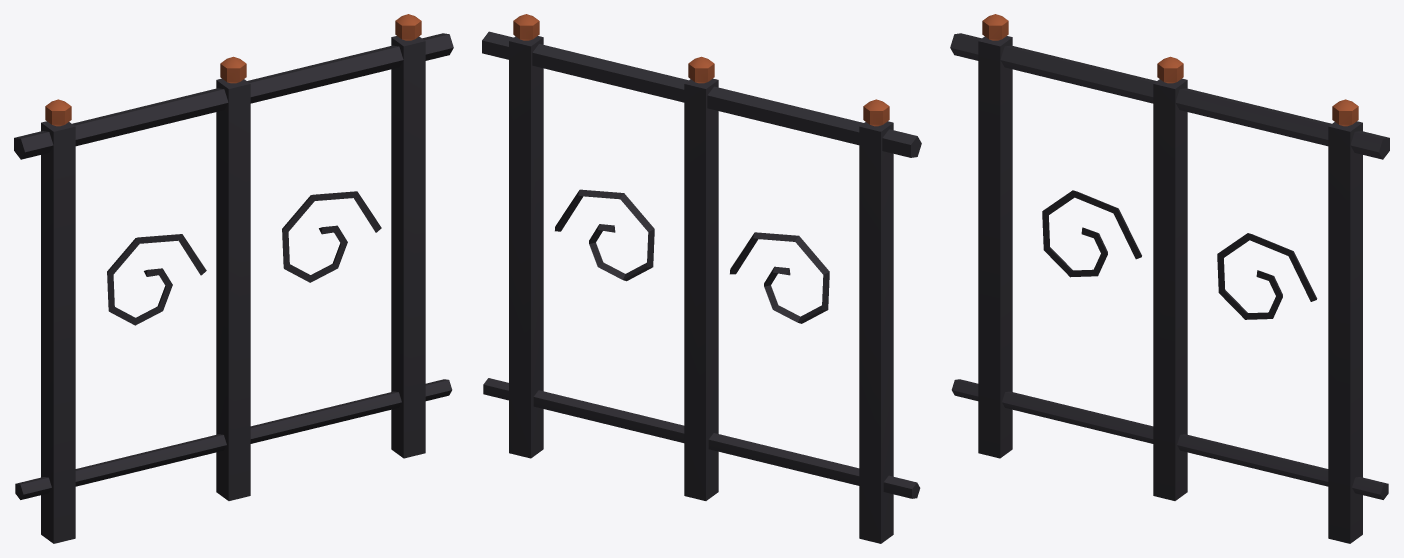
Rendered from qb_stairwell_rail_metal.glb.
3 renders of one model, left to right at view 1: azimuth 30°, elevation 25°; view 2: azimuth 150°, elevation 25°; view 3: azimuth 330°, elevation 25°, orthographic.
Visible parts, largest first — view 1: qb_stairwell_rail_metal; view 2: qb_stairwell_rail_metal; view 3: qb_stairwell_rail_metal.
Boxes of the visible parts, x1,y1,x2,y2 form: qb_stairwell_rail_metal: (14, 14, 453, 543); qb_stairwell_rail_metal: (482, 14, 921, 543); qb_stairwell_rail_metal: (950, 14, 1389, 543).
Bounding box in the file's own units: 0.98 × 0.955 × 0.052.
